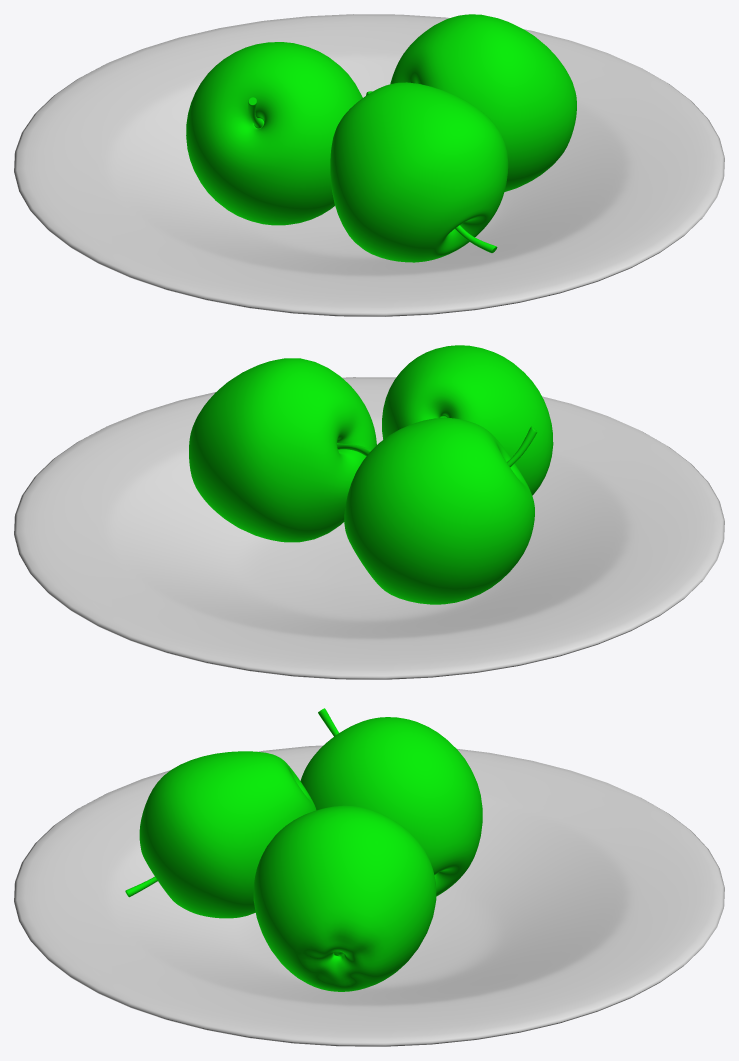
The model's file is Applesonplate.fbx.
3 views of the same model, one above another, from view 1: azimuth 30°, elevation 25°; view 2: azimuth 150°, elevation 25°; view 3: azimuth 270°, elevation 25° (orthographic).
Parts seen in each view (by area): view 1: polySurface5; view 2: polySurface5; view 3: polySurface5.
Part boxes in pixels (<box>): polySurface5: <box>14,14,724,316</box>; polySurface5: <box>14,345,724,679</box>; polySurface5: <box>14,708,724,1046</box>.
Size of the model in its own units: 15.82 by 4.69 by 15.82.
